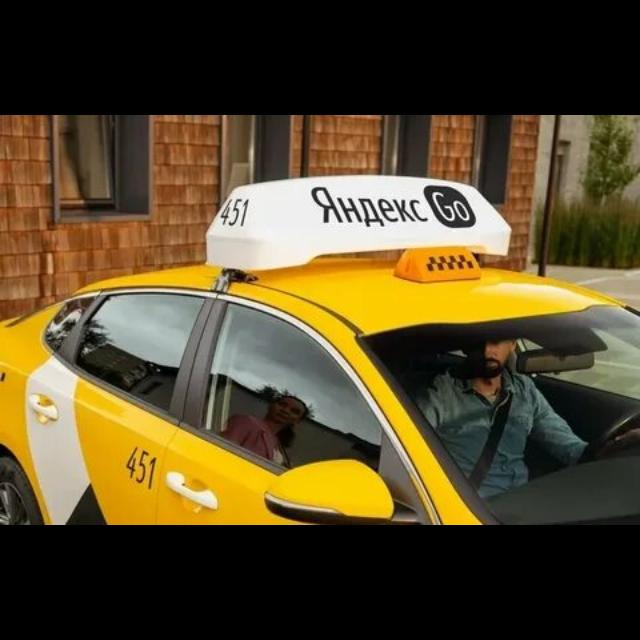taxi: (1, 173, 639, 525)
